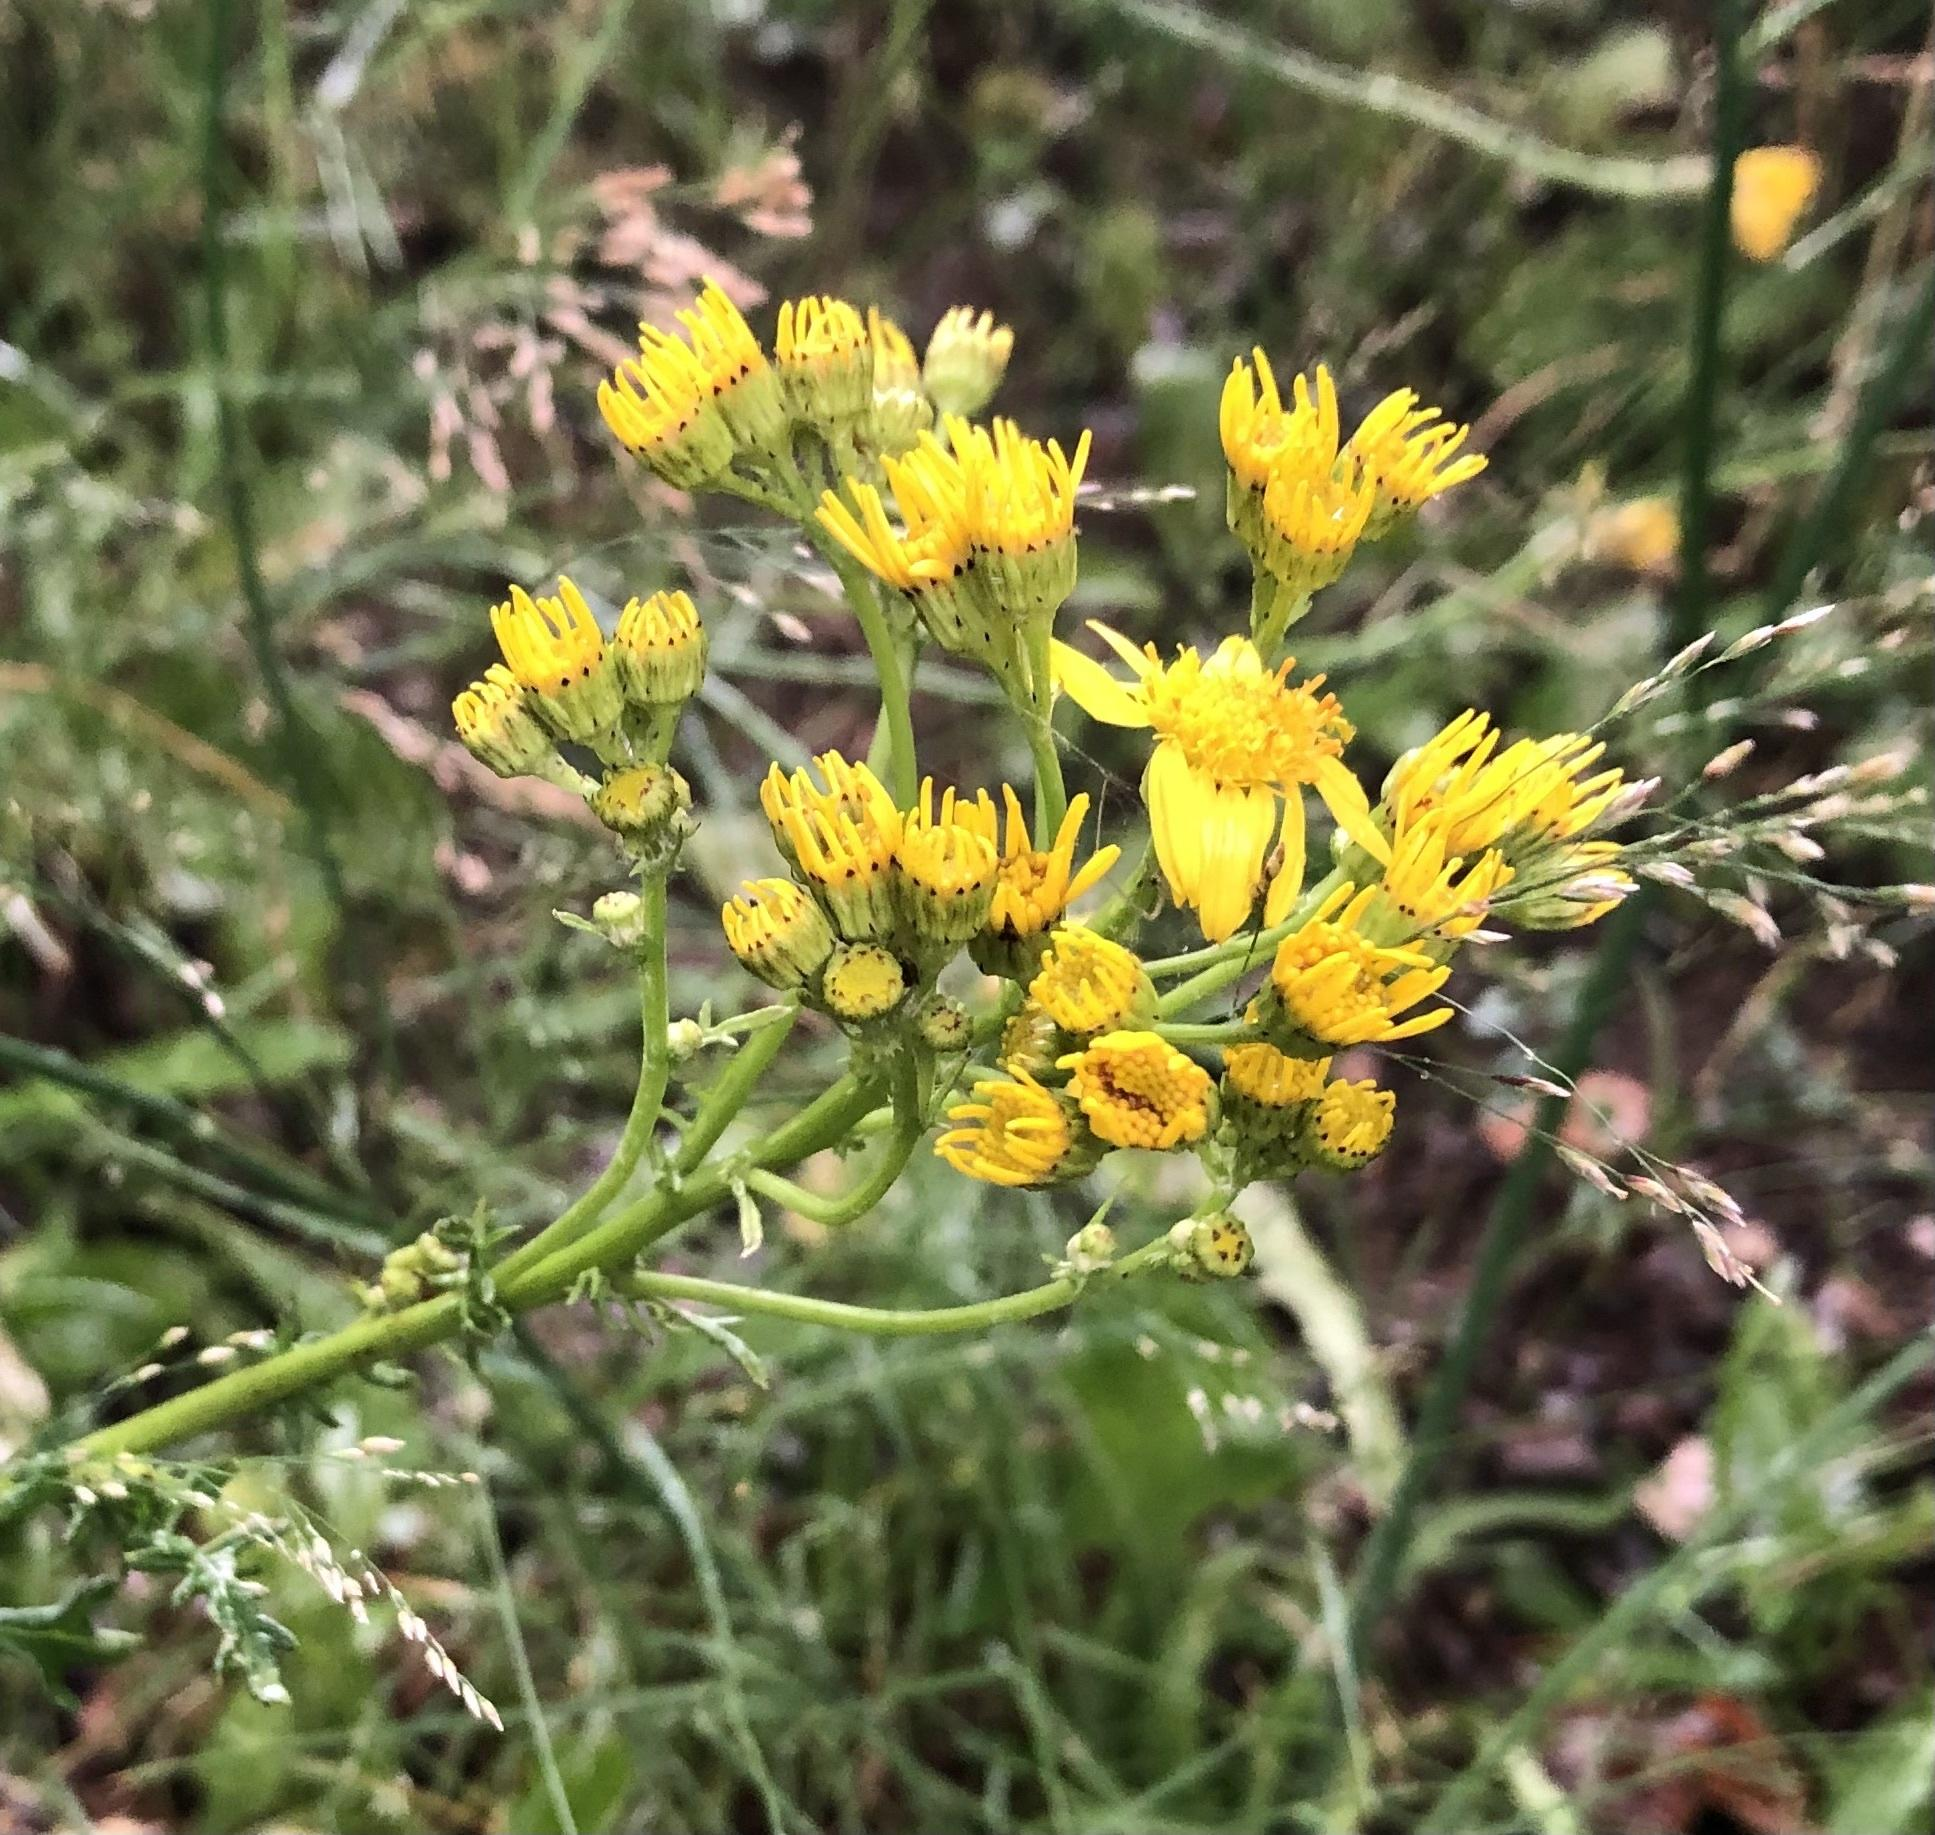Jacobaea vulgaris: (0, 272, 1687, 1640)
